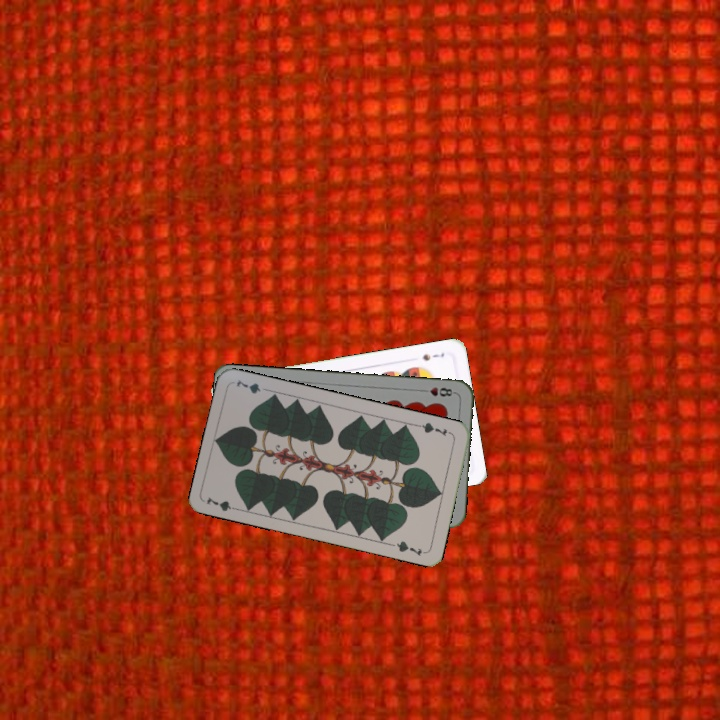G7: (415, 418, 455, 439), (203, 493, 243, 514)
H8: (417, 383, 458, 399)
S7: (418, 348, 447, 363)
